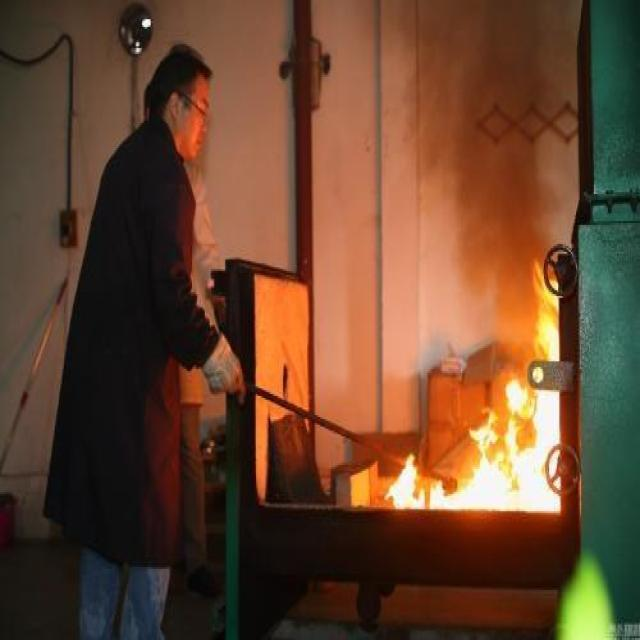fire: (336, 192, 574, 535)
